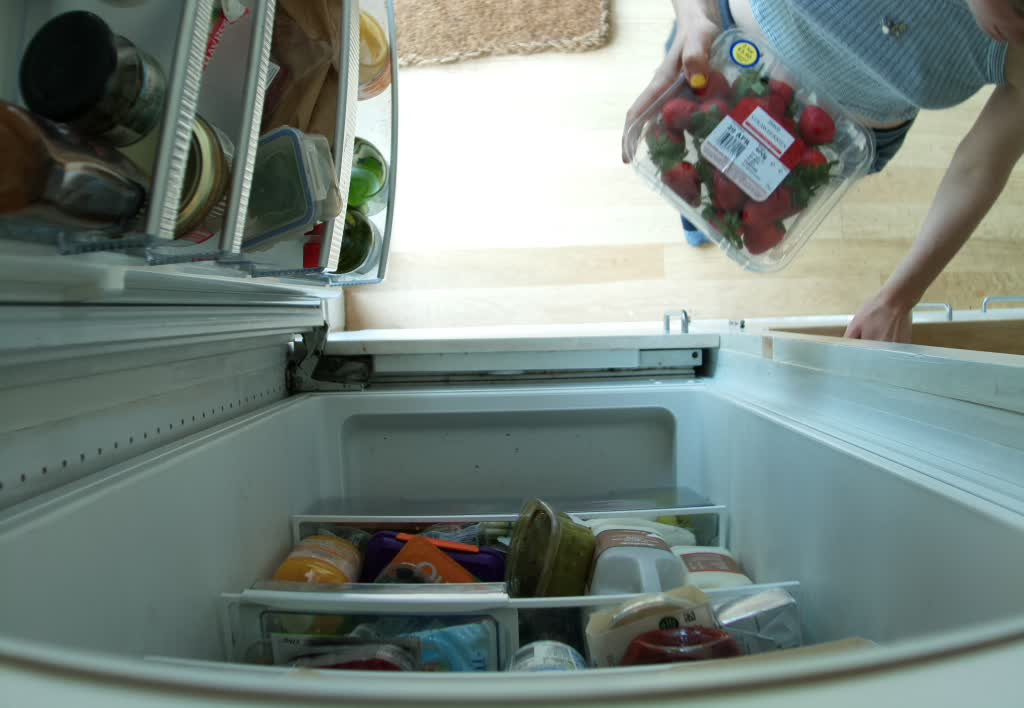soft-fruit: (617, 24, 875, 264)
